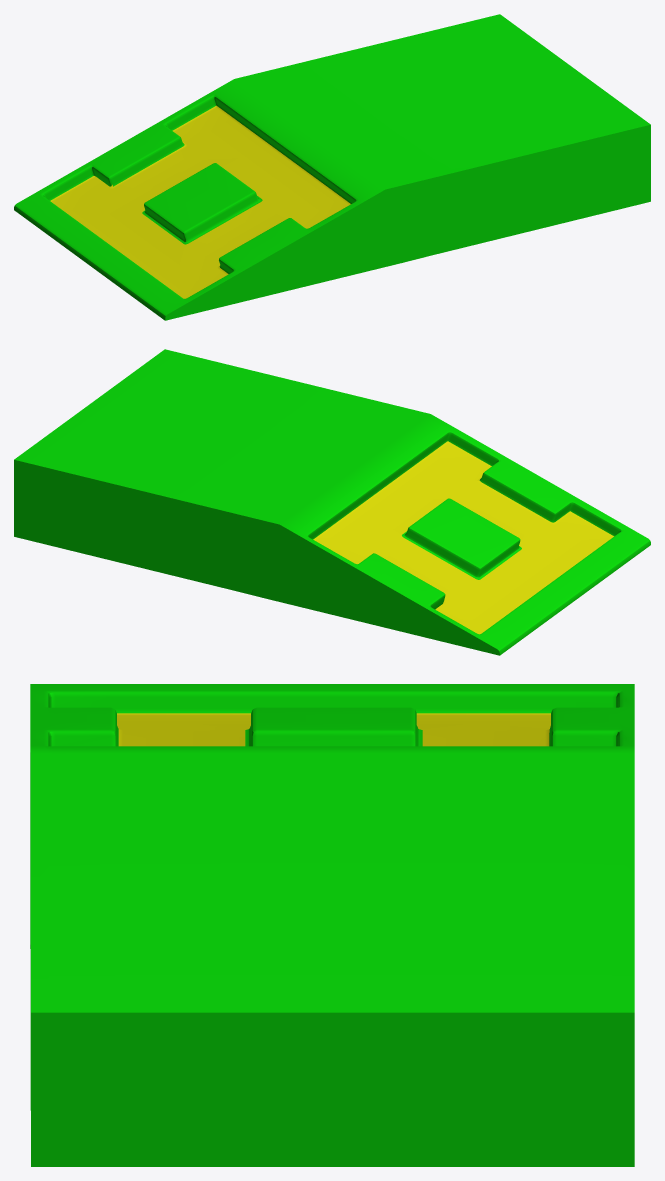
The model's file is Exterior_Flooring.fbx.
3 views of the same model, one above another, from view 1: azimuth 30°, elevation 25°; view 2: azimuth 150°, elevation 25°; view 3: azimuth 270°, elevation 25° (orthographic). The views are drawn at different scales.
Visible parts, largest first — view 1: Exterior_Flooring; view 2: Exterior_Flooring; view 3: Exterior_Flooring.
Part boxes in pixels (box(x1,y1,x2,y2)): Exterior_Flooring: box(14, 14, 650, 320); Exterior_Flooring: box(14, 349, 650, 655); Exterior_Flooring: box(30, 684, 634, 1166).
Bounding box in the file's own units: 2272 × 346 × 1224.
